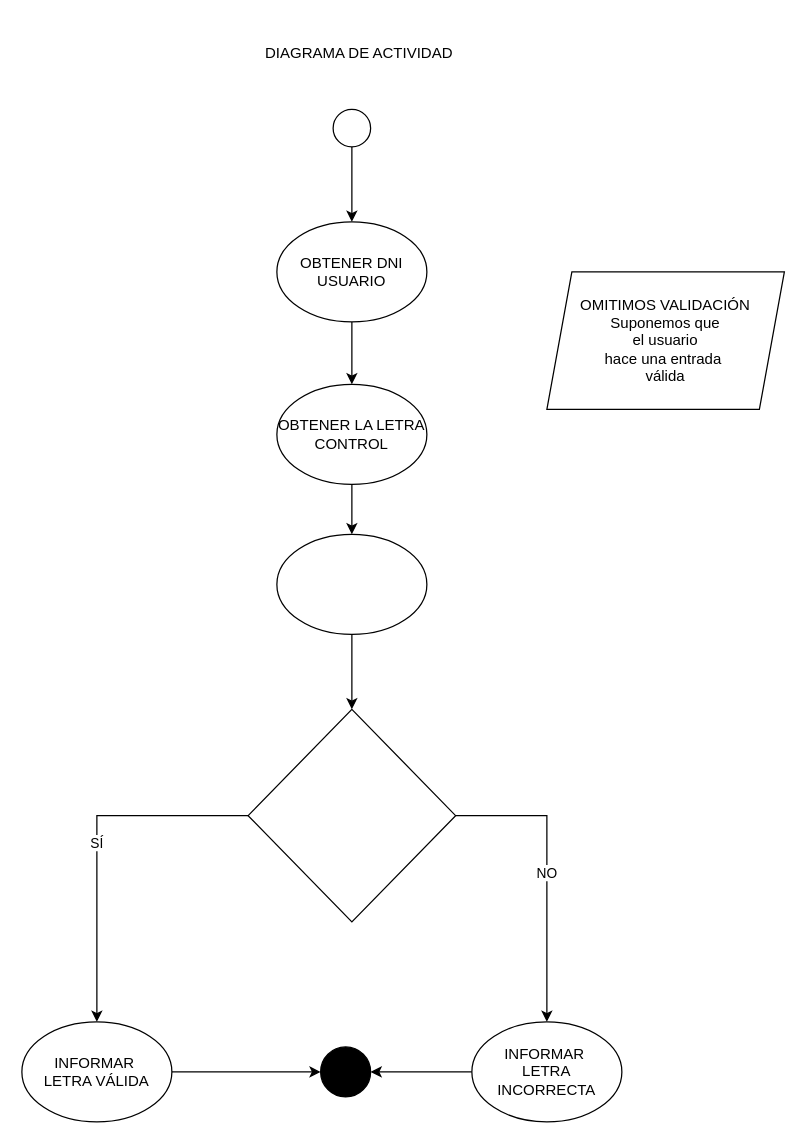
The diagram is 806 pixels wide and 1144 high, and some of its shapes have lost their labels. The shapes that lost their labels are listed below. From the top down, each one's centre as x and y in pixels, then its label:
the point at 351,583: CALCULO LA LETRA PARA EL DNI DADO
the point at 351,815: ¿COINDICEN LA LETRA DE CONTROL CON LA CALCULADA?
